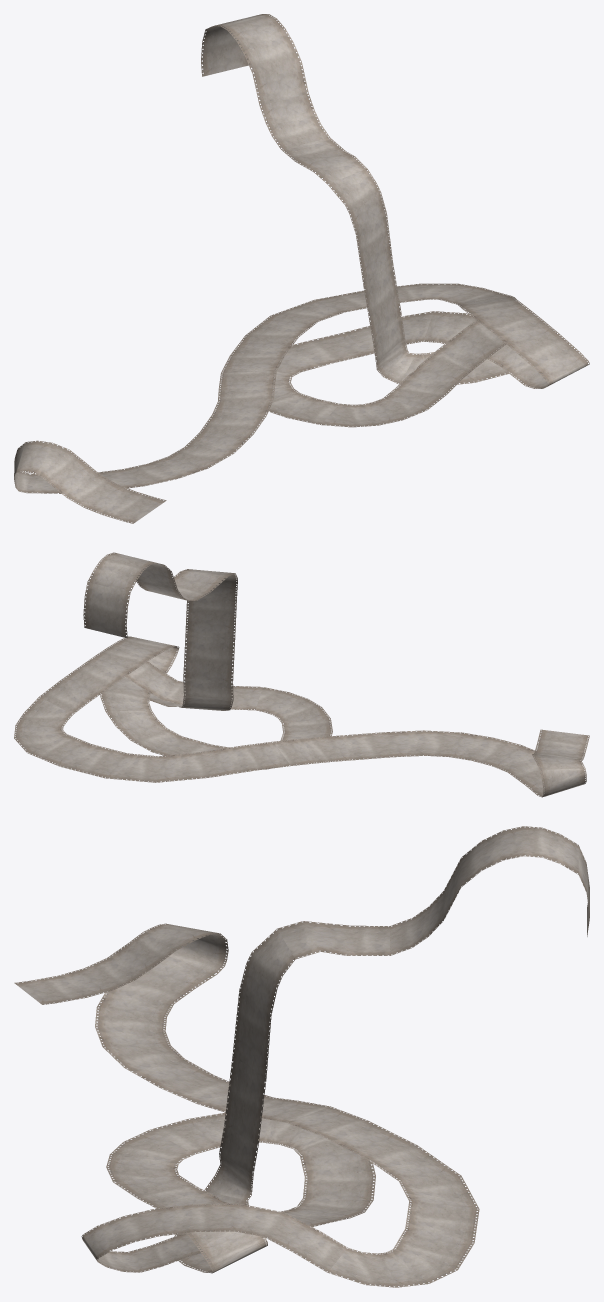
File: 02_06_probe_design_printer_paper.dae
3 renders of one model, top to bottom at view 1: azimuth 30°, elevation 25°; view 2: azimuth 150°, elevation 25°; view 3: azimuth 270°, elevation 25°, orthographic. The views are drawn at different scales.
Parts seen in each view (by area): view 1: Mesh; view 2: Mesh; view 3: Mesh.
Boxes of the visible parts, x1,y1,x2,y2 form: Mesh: (14, 14, 589, 523); Mesh: (14, 552, 589, 797); Mesh: (14, 826, 589, 1287).
Bounding box in the file's own units: 2.85 × 1.34 × 2.02.
